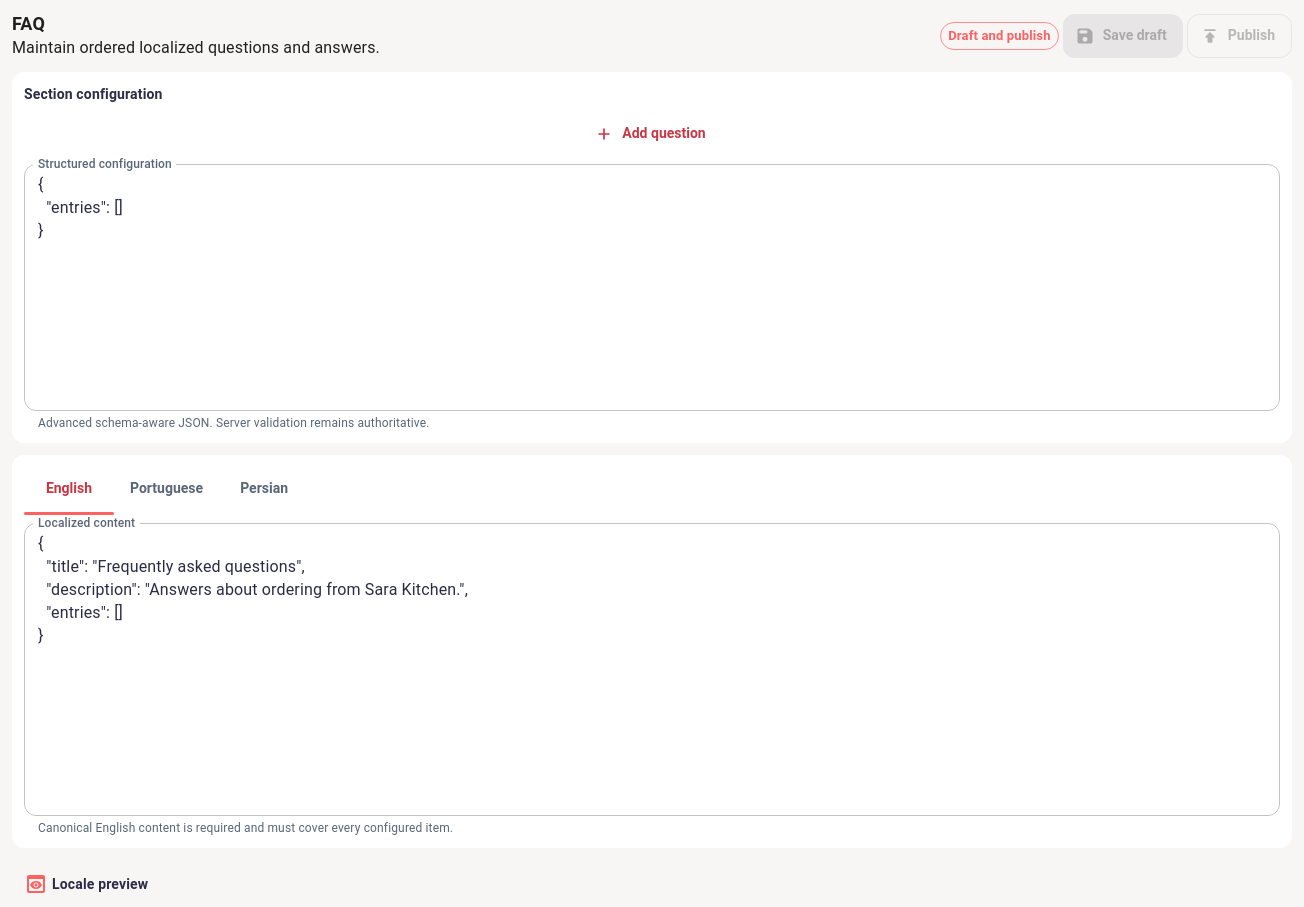
Test: settings section editor › guards dirty navigation and keeps staged publication disabled until save
Expected: the heading "FAQ" is shown, x1=12 y1=13 x2=45 y2=34
Expected: the button "Publish" is disabled, x1=1187 y1=14 x2=1292 y2=58
Click the button "Add question": (652, 134) x1=24 y1=112 x2=1280 y2=156
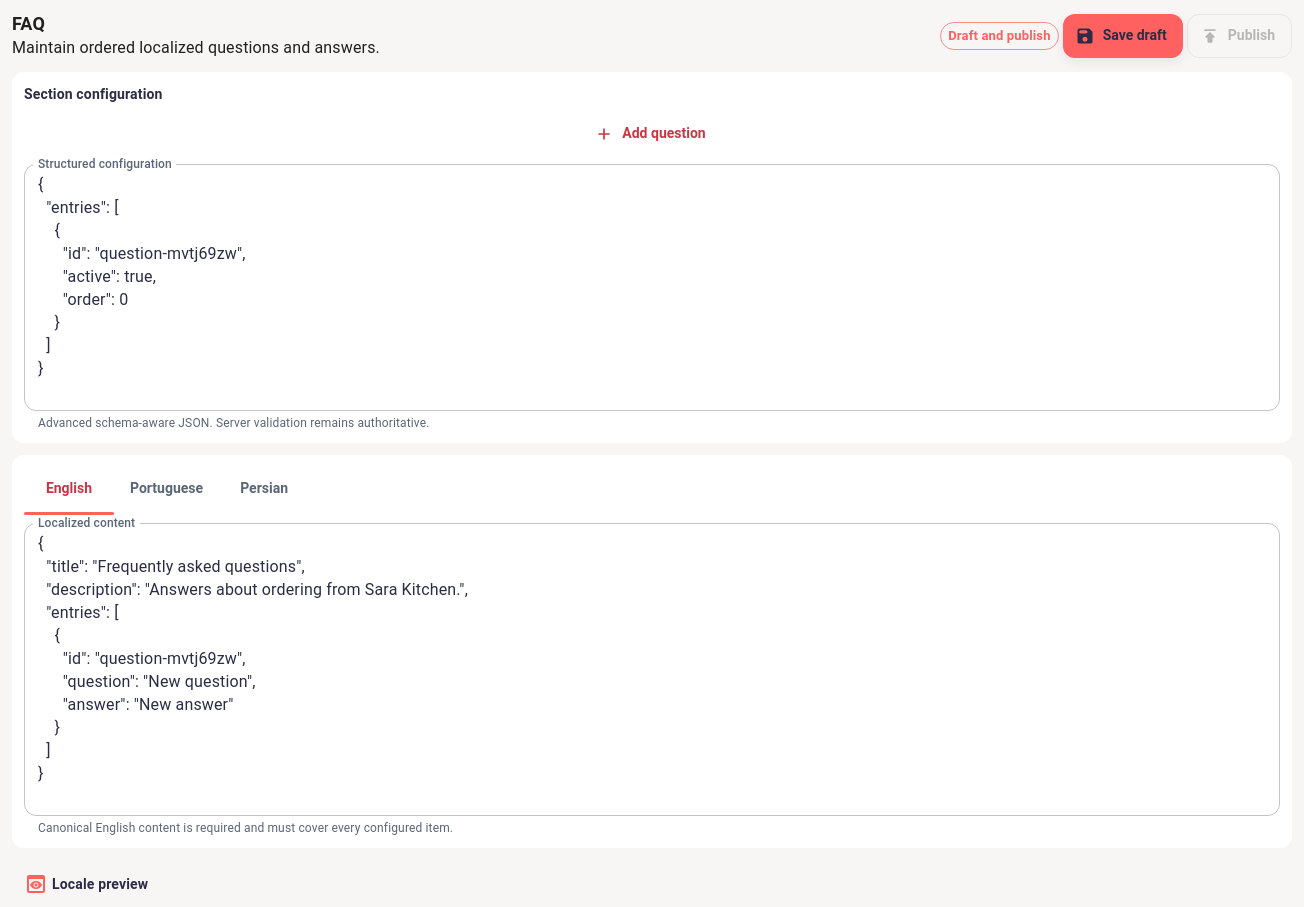
Expected: the button "Save draft" is enabled, x1=1063 y1=14 x2=1183 y2=58
